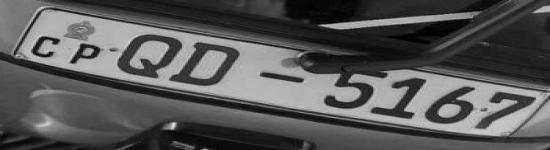-: (257, 68, 310, 88)
1: (362, 71, 442, 122)
5: (314, 62, 395, 114)
6: (413, 81, 491, 130)
7: (467, 88, 545, 137)
C: (30, 33, 64, 58)
D: (183, 39, 243, 90)
P: (64, 40, 105, 68)
Q: (114, 33, 182, 80)
